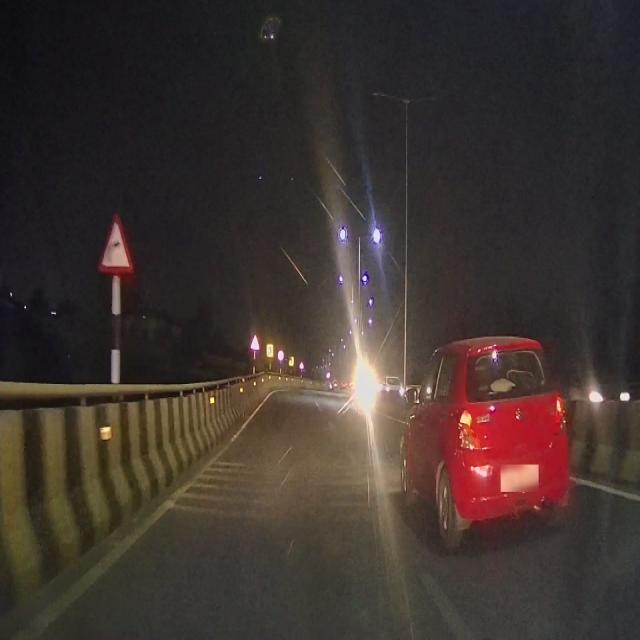car ahead at: (410, 348, 564, 540)
